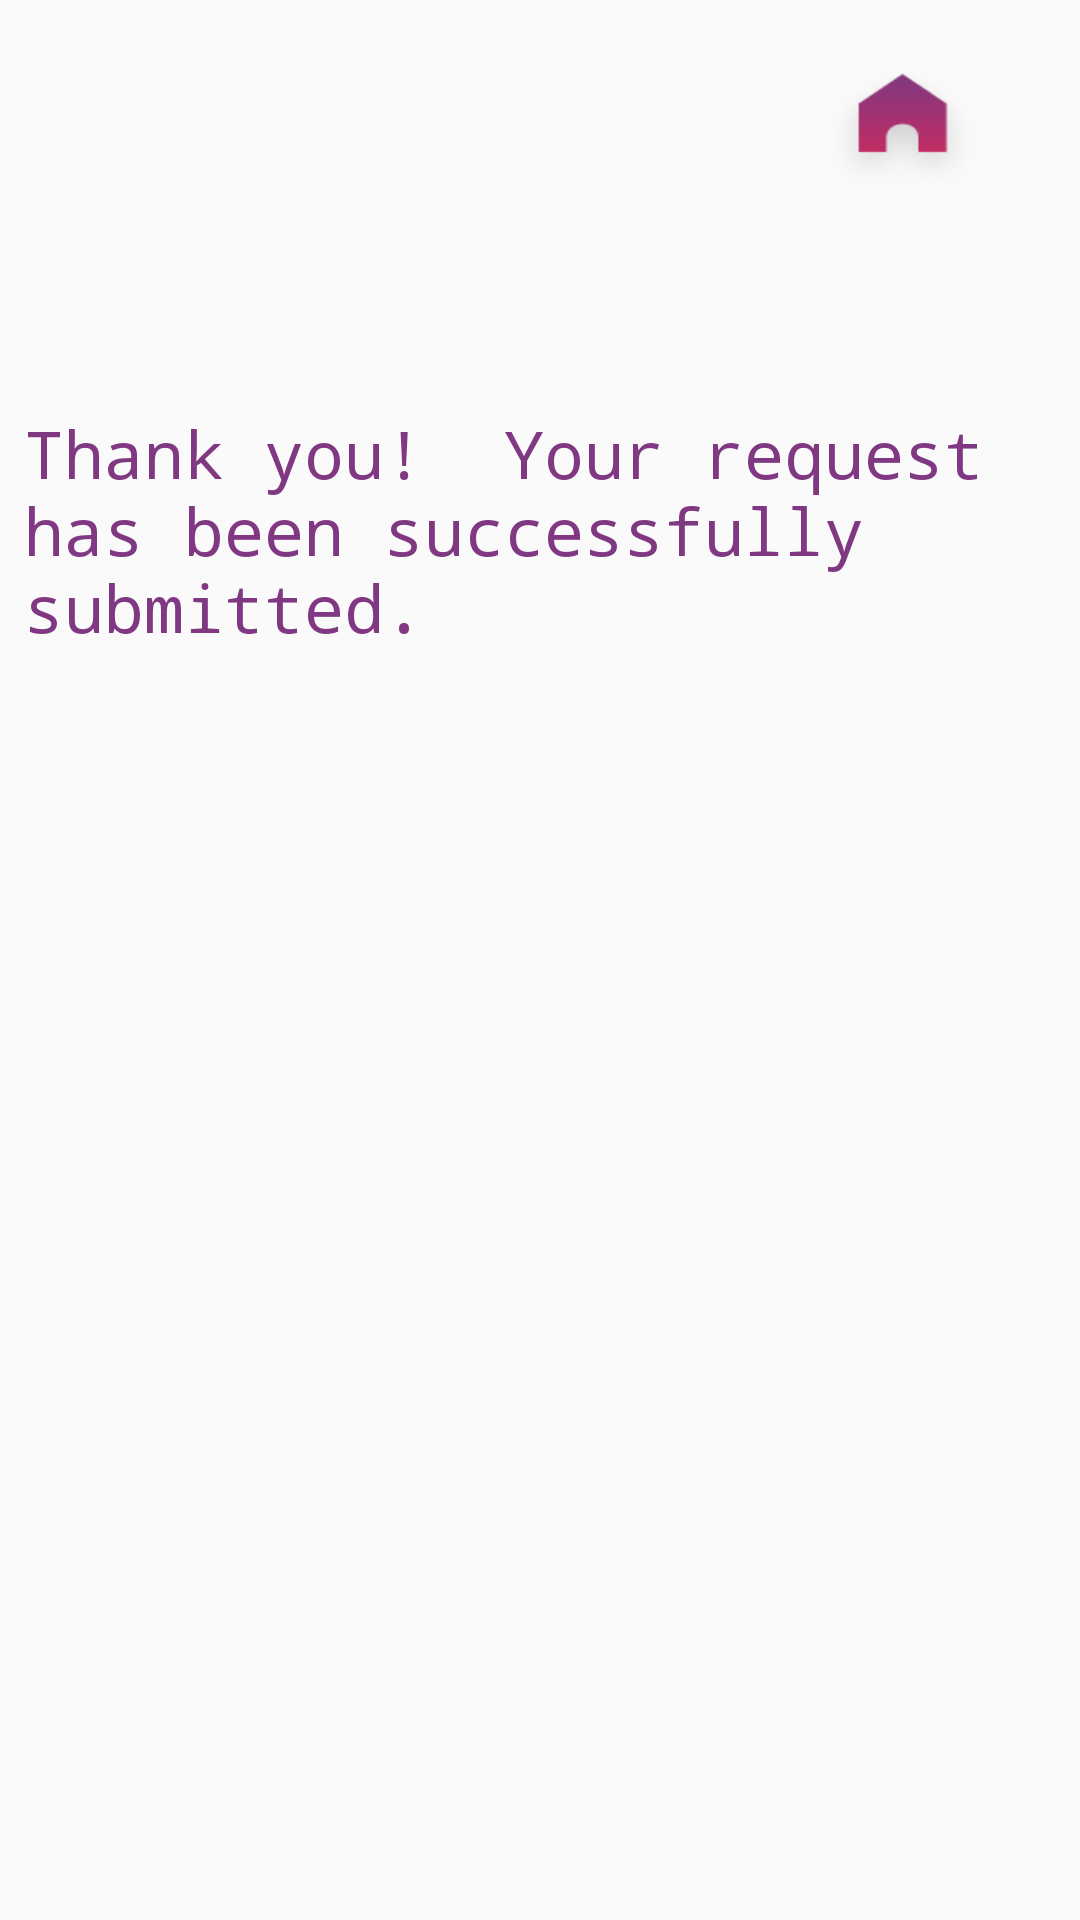

Icon click points for this 1080w x 1920h phone screenshot, format point (x, y):
homeiconshadow: point (903, 113)
